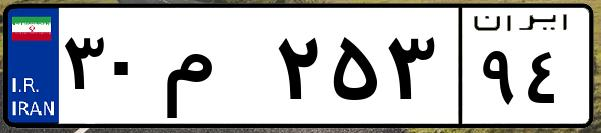0: (110, 28, 158, 98)
2: (270, 28, 330, 110)
3: (385, 28, 445, 110), (57, 26, 110, 100)
4: (525, 38, 570, 115)
5: (330, 28, 385, 110)
9: (475, 38, 525, 113)
م: (158, 20, 270, 120)
